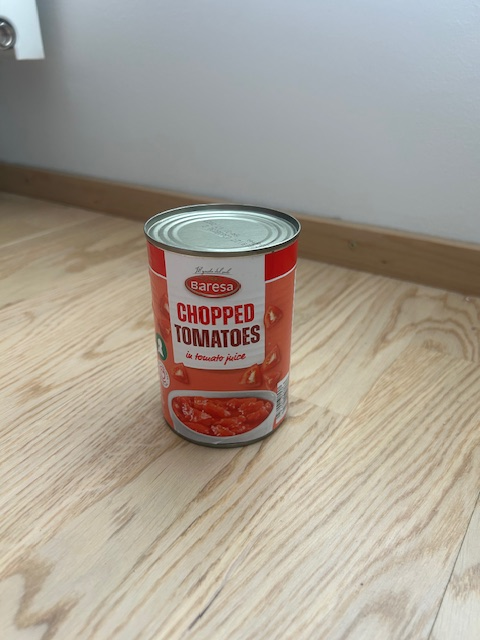Konservburk: (143, 202, 302, 448)
